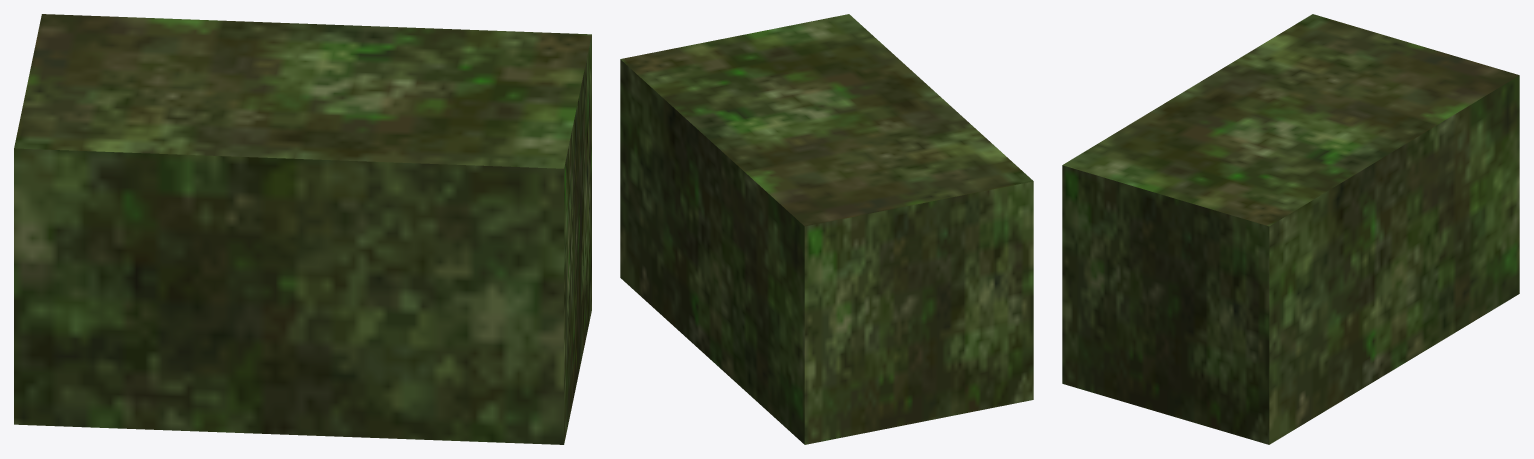
The model's file is OVERHILL_A_01_STONE_BLOCK_47.fbx.
The picture shows the model from 3 angles, left to right: view 1: azimuth 30°, elevation 25°; view 2: azimuth 150°, elevation 25°; view 3: azimuth 270°, elevation 25°; orthographic projection. The views are drawn at different scales.
Parts seen in each view (by area): view 1: OVERHILL_A_01_STONE_BLOCK_47; view 2: OVERHILL_A_01_STONE_BLOCK_47; view 3: OVERHILL_A_01_STONE_BLOCK_47.
Boxes of the visible parts, left/top/right/bottom form: OVERHILL_A_01_STONE_BLOCK_47: left=14, top=14, right=591, bottom=444; OVERHILL_A_01_STONE_BLOCK_47: left=620, top=14, right=1033, bottom=444; OVERHILL_A_01_STONE_BLOCK_47: left=1062, top=14, right=1519, bottom=444.
Bounding box in the file's own units: 14978 × 7183 × 13631.
Materials: 1 (1 with a texture image).
